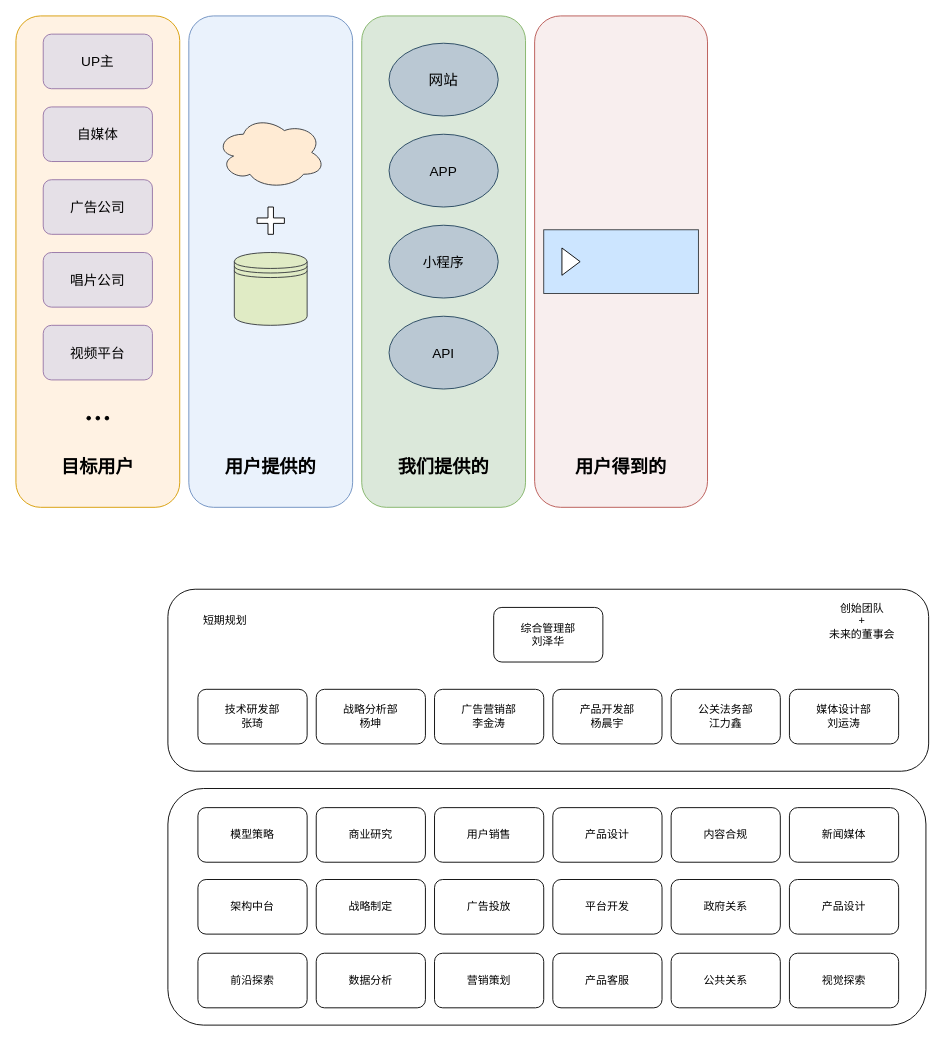
The diagram is 945 pixels wide and 1041 high, and some of its shapes have lost their labels. Here are the shapes that lost their labels. From the top down, the box of each, then its label:
(215, 115, 325, 189): 描述idea
(543, 229, 698, 293): 恰到好处的剪辑！
(233, 252, 307, 325): 素材库
